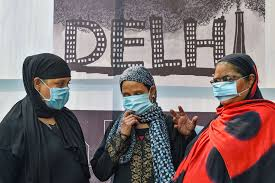mask: (24, 51, 70, 110), (209, 53, 258, 105), (118, 65, 156, 117)
